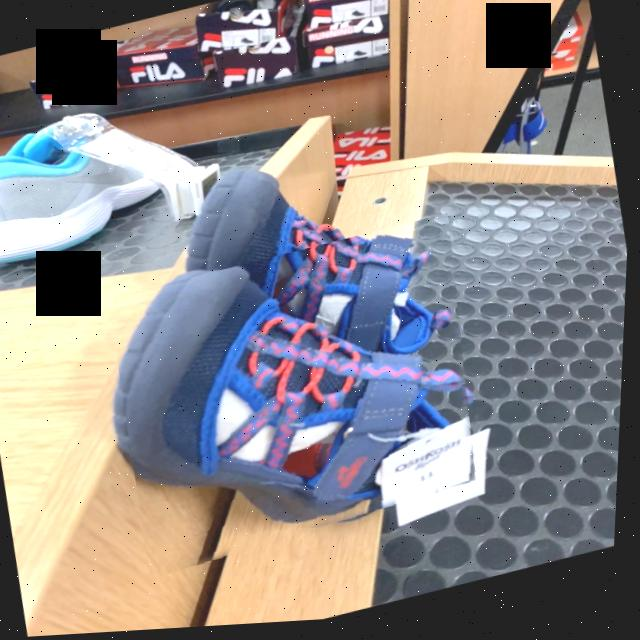shoe: (128, 275, 477, 528)
